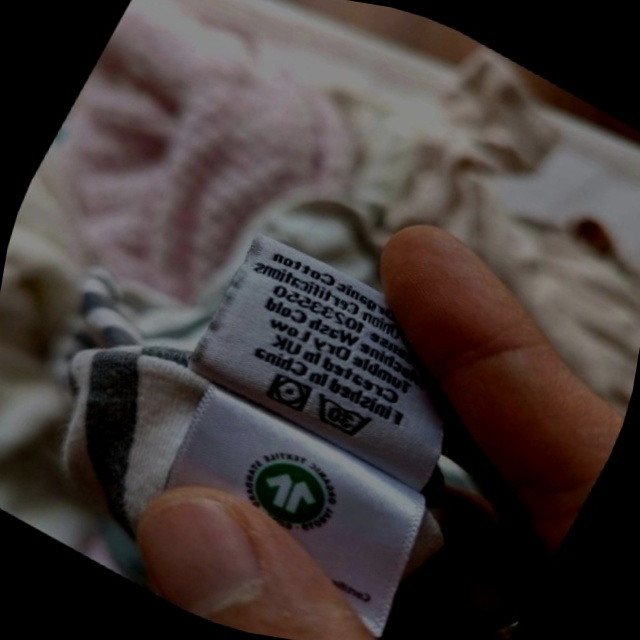30C: (299, 383, 385, 451)
tumble_dry_low: (257, 363, 321, 422)
